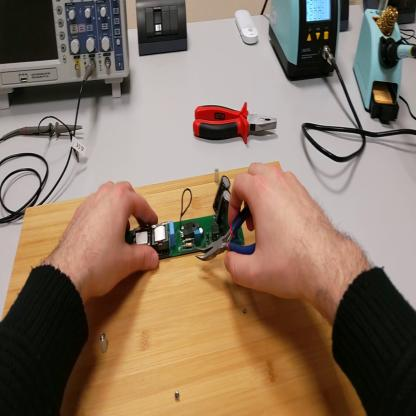hand: (224, 160, 335, 308), (62, 181, 160, 302)
high voltage board: (126, 178, 246, 261)
oscilloscope: (2, 1, 132, 109)
oscilloscope probe tip: (19, 121, 84, 141)
pliers: (193, 100, 278, 144), (196, 208, 255, 263)
socket: (392, 2, 416, 27), (340, 1, 351, 34)
welder base: (357, 2, 405, 128)
welder probe tip: (384, 41, 414, 67)
welder station: (270, 1, 342, 84)
working area: (5, 167, 366, 413)
